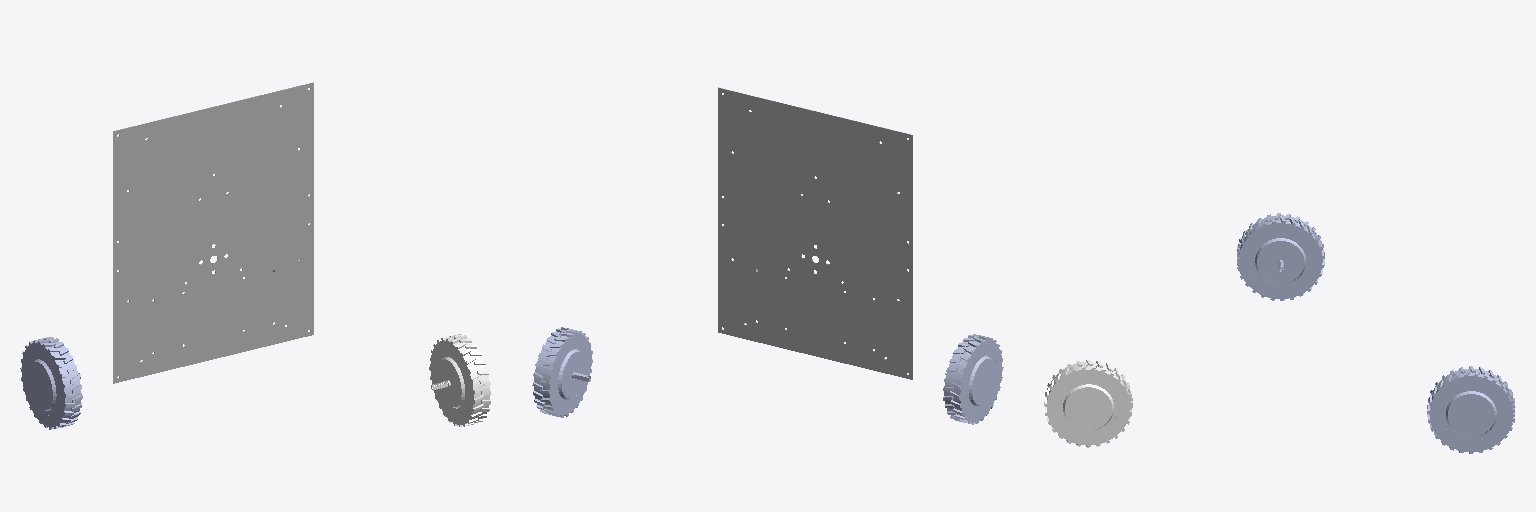
URDF robot description (rover_mesh_2):
<?xml version="1.0" encoding="utf-8"?>
<!-- This URDF was automatically created by SolidWorks to URDF Exporter! Originally created by [author] ([email redacted]) 
     Commit Version: 1.6.0-4-g7f85cfe  Build Version: 1.6.7995.38578
     For more information, please see http://wiki.ros.org/sw_urdf_exporter -->
<robot
  name="rover_mesh_2">
  <link
    name="base_link">
    <inertial>
      <origin
        xyz="-0.0015644 -0.049703 0.09434"
        rpy="0 0 0" />
      <mass
        value="16.036" />
      <inertia
        ixx="0.17769"
        ixy="0.0006185"
        ixz="-0.00012306"
        iyy="0.13244"
        iyz="-0.00052457"
        izz="0.2638" />
    </inertial>
    <visual>
      <origin
        xyz="0 0 0"
        rpy="0 0 0" />
      <geometry>
        <mesh
          filename="package://rover_mesh_2/meshes/base_link.STL" />
      </geometry>
      <material
        name="">
        <color
          rgba="0.75294 0.75294 0.75294 1" />
      </material>
    </visual>
    <collision>
      <origin
        xyz="0 0 0"
        rpy="0 0 0" />
      <geometry>
        <mesh
          filename="package://rover_mesh_2/meshes/base_link.STL" />
      </geometry>
    </collision>
  </link>
  <link
    name="left_rear_wheel_link">
    <inertial>
      <origin
        xyz="0.00011831 1.7454E-10 -5.3989E-07"
        rpy="0 0 0" />
      <mass
        value="1.3852" />
      <inertia
        ixx="0.0060867"
        ixy="-1.3047E-10"
        ixz="5.0163E-08"
        iyy="0.0033173"
        iyz="5.842E-11"
        izz="0.0033173" />
    </inertial>
    <visual>
      <origin
        xyz="0 0 0"
        rpy="0 0 0" />
      <geometry>
        <mesh
          filename="package://rover_mesh_2/meshes/left_rear_wheel_link.STL" />
      </geometry>
      <material
        name="">
        <color
          rgba="0.79216 0.81961 0.93333 1" />
      </material>
    </visual>
    <collision>
      <origin
        xyz="0 0 0"
        rpy="0 0 0" />
      <geometry>
        <mesh
          filename="package://rover_mesh_2/meshes/left_rear_wheel_link.STL" />
      </geometry>
    </collision>
  </link>
  <joint
    name="left_rear_wheel_joint"
    type="continuous">
    <origin
      xyz="-0.41008 0.4318 -0.2667"
      rpy="0 0 0" />
    <parent
      link="base_link" />
    <child
      link="left_rear_wheel_link" />
    <axis
      xyz="-1 0 0" />
  </joint>
  <link
    name="right_rear_wheel_link">
    <inertial>
      <origin
        xyz="-0.00011831 6.4147E-09 -5.4762E-07"
        rpy="0 0 0" />
      <mass
        value="1.3852" />
      <inertia
        ixx="0.0060867"
        ixy="-1.5161E-10"
        ixz="-5.0138E-08"
        iyy="0.0033173"
        iyz="-1.6819E-11"
        izz="0.0033173" />
    </inertial>
    <visual>
      <origin
        xyz="0 0 0"
        rpy="0 0 0" />
      <geometry>
        <mesh
          filename="package://rover_mesh_2/meshes/right_rear_wheel_link.STL" />
      </geometry>
      <material
        name="">
        <color
          rgba="0.79216 0.81961 0.93333 1" />
      </material>
    </visual>
    <collision>
      <origin
        xyz="0 0 0"
        rpy="0 0 0" />
      <geometry>
        <mesh
          filename="package://rover_mesh_2/meshes/right_rear_wheel_link.STL" />
      </geometry>
    </collision>
  </link>
  <joint
    name="right_rear_wheel_joint"
    type="continuous">
    <origin
      xyz="0.41014 0.4318 -0.2667"
      rpy="0 0 0" />
    <parent
      link="base_link" />
    <child
      link="right_rear_wheel_link" />
    <axis
      xyz="1 0 0" />
  </joint>
  <link
    name="left_middle_wheel_link">
    <inertial>
      <origin
        xyz="0.00011831 -4.1078E-07 -3.6496E-07"
        rpy="0 0 0" />
      <mass
        value="1.3852" />
      <inertia
        ixx="0.0060867"
        ixy="3.7938E-08"
        ixz="3.2773E-08"
        iyy="0.0033173"
        iyz="-8.2013E-09"
        izz="0.0033173" />
    </inertial>
    <visual>
      <origin
        xyz="0 0 0"
        rpy="0 0 0" />
      <geometry>
        <mesh
          filename="package://rover_mesh_2/meshes/left_middle_wheel_link.STL" />
      </geometry>
      <material
        name="">
        <color
          rgba="0.79216 0.81961 0.93333 1" />
      </material>
    </visual>
    <collision>
      <origin
        xyz="0 0 0"
        rpy="0 0 0" />
      <geometry>
        <mesh
          filename="package://rover_mesh_2/meshes/left_middle_wheel_link.STL" />
      </geometry>
    </collision>
  </link>
  <joint
    name="left_middle_wheel_joint"
    type="continuous">
    <origin
      xyz="-0.41008 0 -0.2667"
      rpy="0 0 0" />
    <parent
      link="base_link" />
    <child
      link="left_middle_wheel_link" />
    <axis
      xyz="-1 0 0" />
  </joint>
  <link
    name="right_middle_wheel_link">
    <inertial>
      <origin
        xyz="-0.00011831 -4.1147E-07 -3.4979E-07"
        rpy="0 0 0" />
      <mass
        value="1.3852" />
      <inertia
        ixx="0.0060867"
        ixy="-3.8106E-08"
        ixz="-3.2623E-08"
        iyy="0.0033173"
        iyz="-8.4377E-09"
        izz="0.0033173" />
    </inertial>
    <visual>
      <origin
        xyz="0 0 0"
        rpy="0 0 0" />
      <geometry>
        <mesh
          filename="package://rover_mesh_2/meshes/right_middle_wheel_link.STL" />
      </geometry>
      <material
        name="">
        <color
          rgba="0.79216 0.81961 0.93333 1" />
      </material>
    </visual>
    <collision>
      <origin
        xyz="0 0 0"
        rpy="0 0 0" />
      <geometry>
        <mesh
          filename="package://rover_mesh_2/meshes/right_middle_wheel_link.STL" />
      </geometry>
    </collision>
  </link>
  <joint
    name="right_middle_wheel_joint"
    type="continuous">
    <origin
      xyz="0.41014 0 -0.2667"
      rpy="0 0 0" />
    <parent
      link="base_link" />
    <child
      link="right_middle_wheel_link" />
    <axis
      xyz="1 0 0" />
  </joint>
  <link
    name="left_front_wheel_link">
    <inertial>
      <origin
        xyz="0.00015521 9.0026E-09 -5.4751E-07"
        rpy="0 0 0" />
      <mass
        value="1.3852" />
      <inertia
        ixx="0.0060867"
        ixy="-1.5155E-10"
        ixz="5.0139E-08"
        iyy="0.0033173"
        iyz="1.7921E-11"
        izz="0.0033173" />
    </inertial>
    <visual>
      <origin
        xyz="0 0 0"
        rpy="0 0 0" />
      <geometry>
        <mesh
          filename="package://rover_mesh_2/meshes/left_front_wheel_link.STL" />
      </geometry>
      <material
        name="">
        <color
          rgba="0.79216 0.81961 0.93333 1" />
      </material>
    </visual>
    <collision>
      <origin
        xyz="0 0 0"
        rpy="0 0 0" />
      <geometry>
        <mesh
          filename="package://rover_mesh_2/meshes/left_front_wheel_link.STL" />
      </geometry>
    </collision>
  </link>
  <joint
    name="left_front_wheel_joint"
    type="continuous">
    <origin
      xyz="-0.37202 -0.43504 -0.26758"
      rpy="0 0 0" />
    <parent
      link="base_link" />
    <child
      link="left_front_wheel_link" />
    <axis
      xyz="1 0 0" />
  </joint>
  <link
    name="right_front_wheel_link">
    <inertial>
      <origin
        xyz="0 0 0"
        rpy="0 0 0" />
      <mass
        value="0" />
      <inertia
        ixx="0"
        ixy="0"
        ixz="0"
        iyy="0"
        iyz="0"
        izz="0" />
    </inertial>
    <visual>
      <origin
        xyz="0 0 0"
        rpy="0 0 0" />
      <geometry>
        <mesh
          filename="package://rover_mesh_2/meshes/right_front_wheel_link.STL" />
      </geometry>
      <material
        name="">
        <color
          rgba="1 1 1 1" />
      </material>
    </visual>
    <collision>
      <origin
        xyz="0 0 0"
        rpy="0 0 0" />
      <geometry>
        <mesh
          filename="package://rover_mesh_2/meshes/right_front_wheel_link.STL" />
      </geometry>
    </collision>
  </link>
  <joint
    name="right_front_wheel_joint"
    type="continuous">
    <origin
      xyz="0.37204 -0.43504 -0.26758"
      rpy="0 0 0" />
    <parent
      link="base_link" />
    <child
      link="right_front_wheel_link" />
    <axis
      xyz="1 0 0" />
  </joint>
</robot>

--- What the picture shows (computed from the rendered views, not written in the file) ---
The picture shows the robot from 3 angles, left to right: view 1: azimuth 30°, elevation 25°; view 2: azimuth 150°, elevation 25°; view 3: azimuth 270°, elevation 25°; orthographic projection.
Model rover_mesh_2 with 7 links and 6 joints (6 continuous), rooted at base_link, posed all joints at 0.
Visible links, largest first — view 1: base_link, right_front_wheel_link, left_middle_wheel_link; view 2: base_link, right_rear_wheel_link, left_middle_wheel_link; view 3: left_middle_wheel_link, right_rear_wheel_link, right_front_wheel_link.
Link boxes in pixels (x1,y1,x2,y2): base_link: [113, 82, 313, 383]; right_front_wheel_link: [429, 334, 491, 426]; left_middle_wheel_link: [20, 337, 82, 429]; base_link: [718, 87, 912, 379]; right_rear_wheel_link: [532, 327, 592, 417]; left_middle_wheel_link: [943, 334, 1003, 424]; left_middle_wheel_link: [1237, 213, 1324, 300]; right_rear_wheel_link: [1427, 366, 1515, 453]; right_front_wheel_link: [1044, 360, 1132, 447].
Bounding box of the posed robot: 0.8763 × 1.07 × 0.6723 m (x, y, z).
Meshes: 7 distinct files referenced, 4 mesh visuals loaded (4 binary STL); not drawn: 3 (reference not matched to a file when rendering).